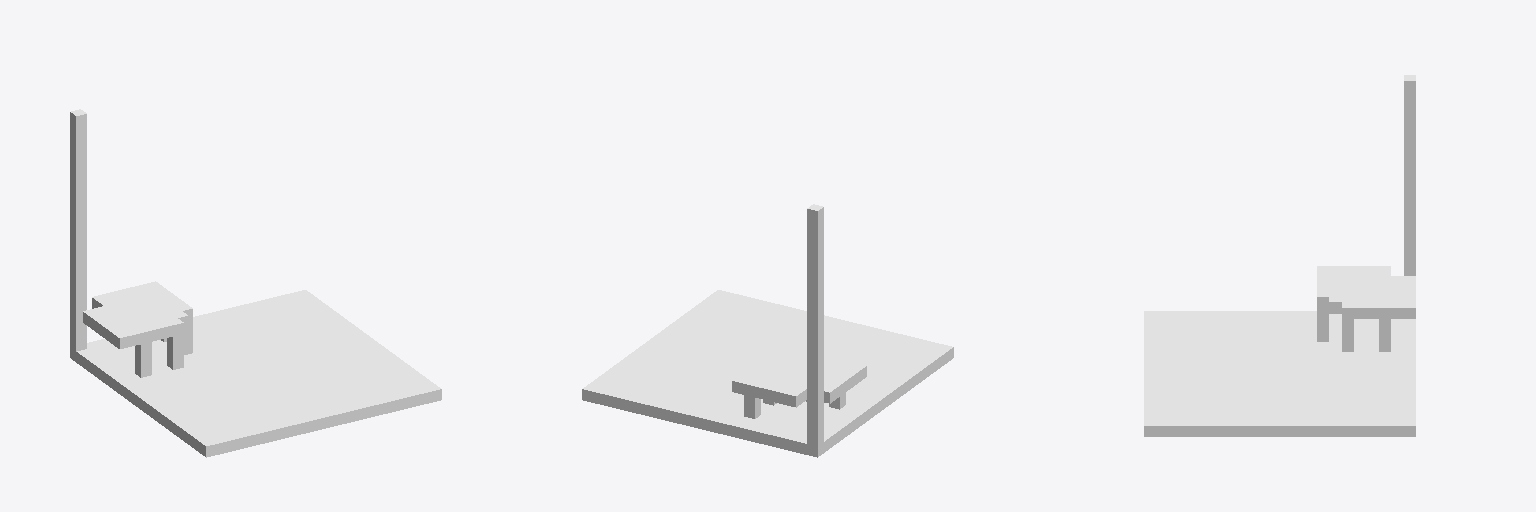
The model's file is level_one-4.obj.
The picture shows the model from 3 angles: view 1: azimuth 30°, elevation 25°; view 2: azimuth 150°, elevation 25°; view 3: azimuth 270°, elevation 25°; orthographic projection.
Visible parts, largest first — view 1: level_one-4; view 2: level_one-4; view 3: level_one-4.
Boxes of the visible parts, x1=… form: level_one-4: x1=70, y1=109, x2=441, y2=457; level_one-4: x1=582, y1=204, x2=953, y2=457; level_one-4: x1=1144, y1=75, x2=1415, y2=436.
Bounding box in the file's own units: 22 × 22 × 22.